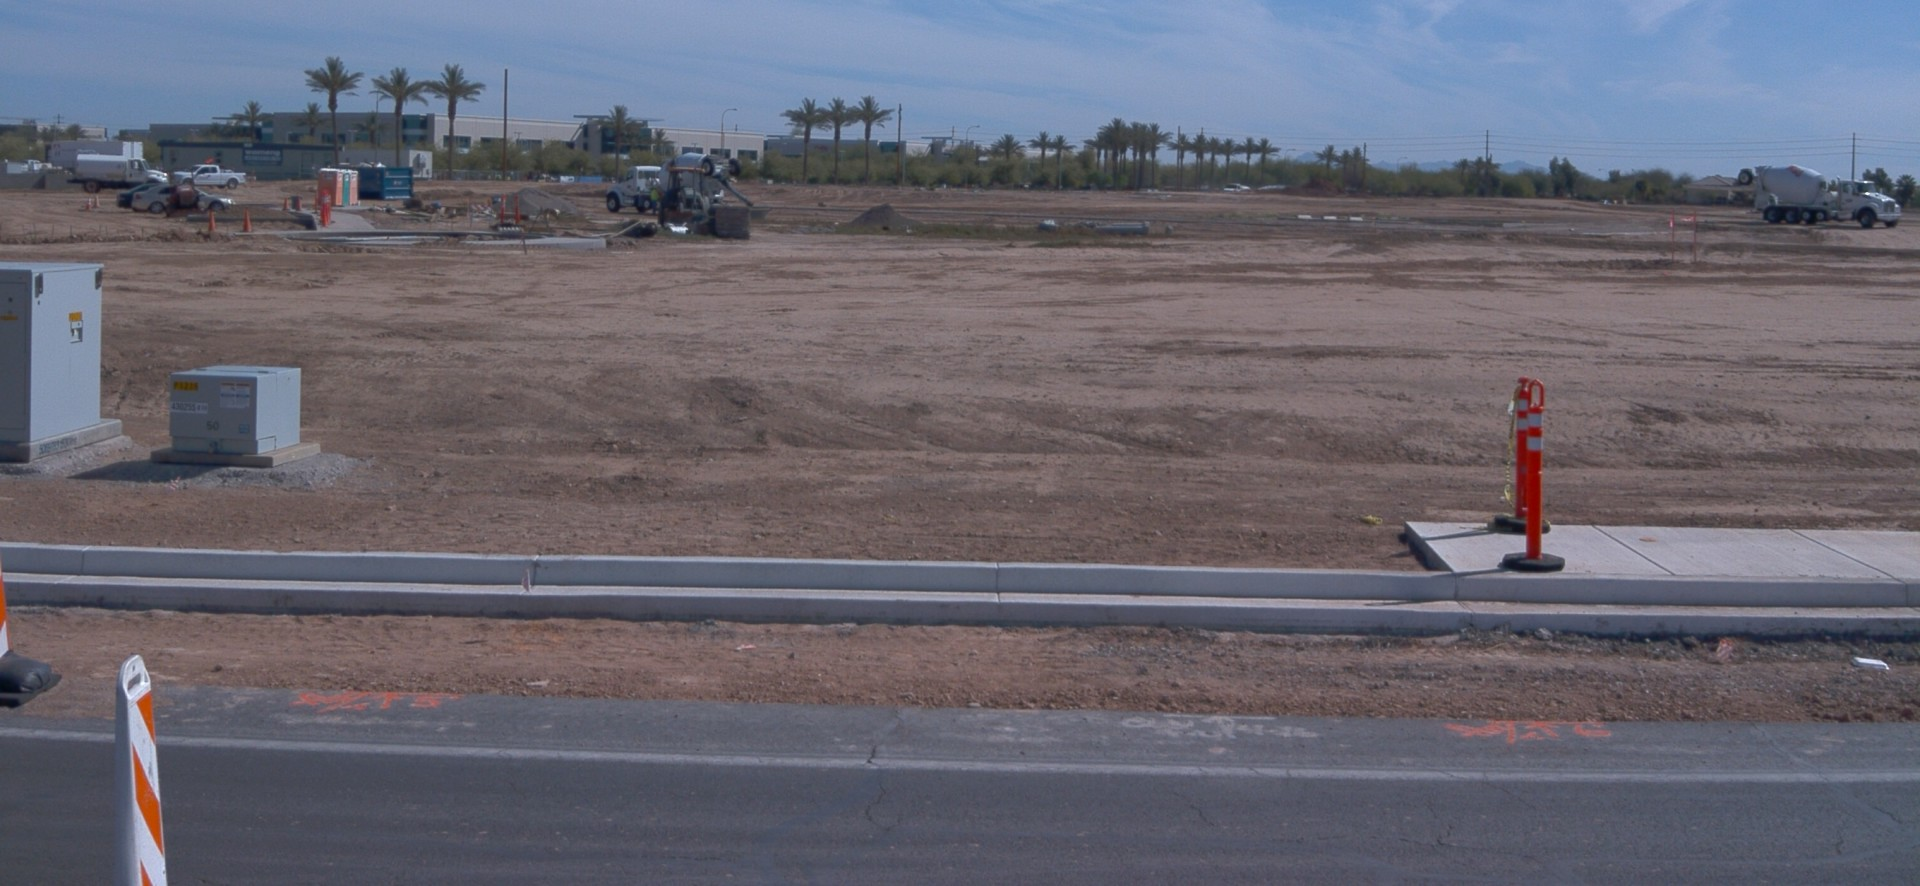TYPE_PEDESTRIAN: (651, 185, 663, 217)
TYPE_VEHICLE: (1732, 163, 1901, 231), (603, 150, 754, 214), (651, 161, 720, 233), (65, 153, 170, 194), (56, 140, 149, 181), (129, 180, 236, 214), (171, 162, 248, 192), (165, 165, 205, 216), (0, 148, 57, 172), (116, 185, 154, 209), (1222, 182, 1251, 195)
